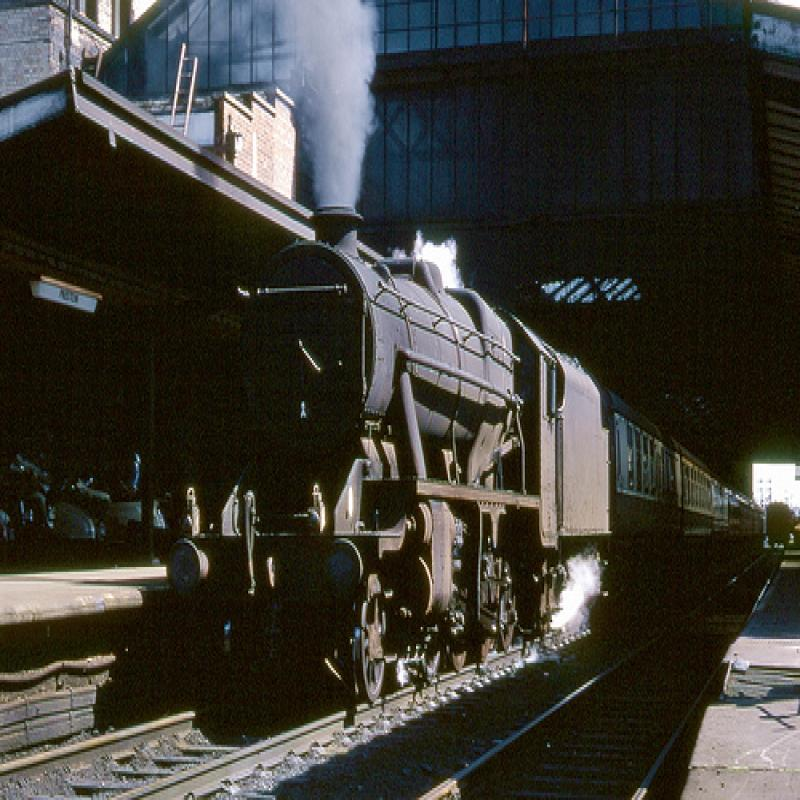train: (174, 208, 766, 715)
